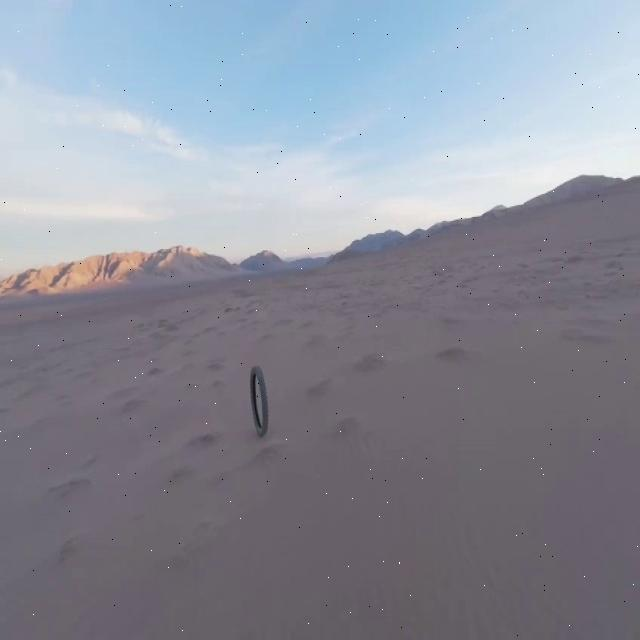Tire: (251, 366, 268, 435)
